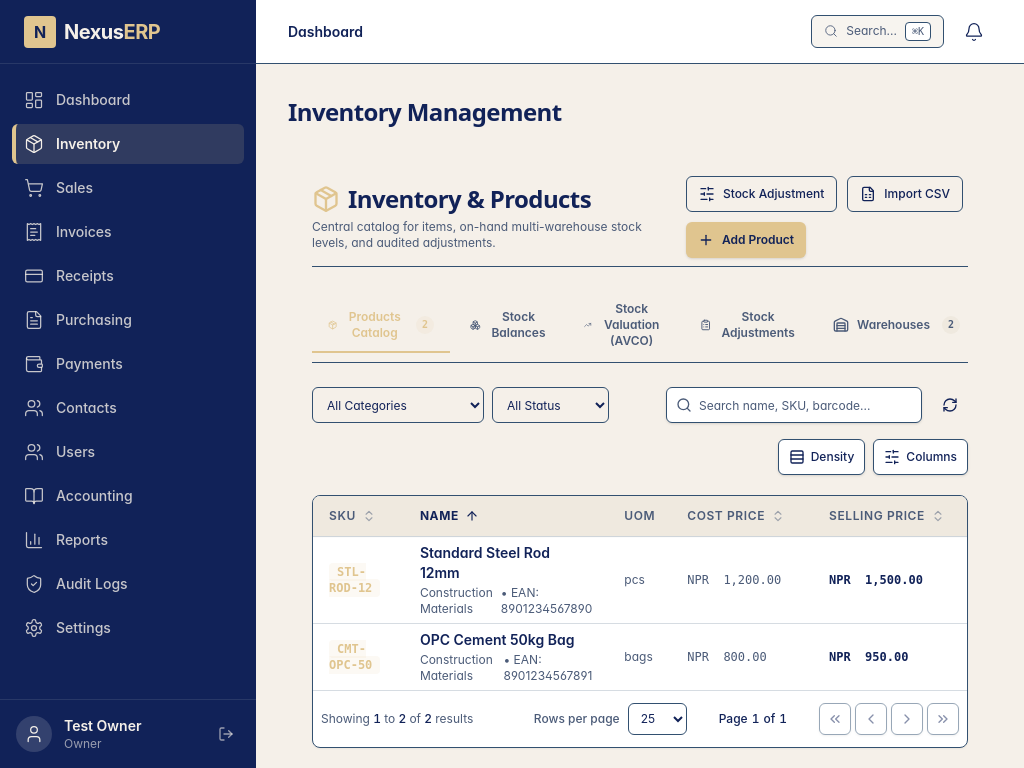
InventoryIndex Component › opens Add Product modal and submits successfully
Later steps or results of the test are not shown.
Expected: the text "Standard Steel Rod 12mm" is shown, [420,544,550,580]
Click the button "Add Product". click: (746, 240)
box: [686,222,806,258]
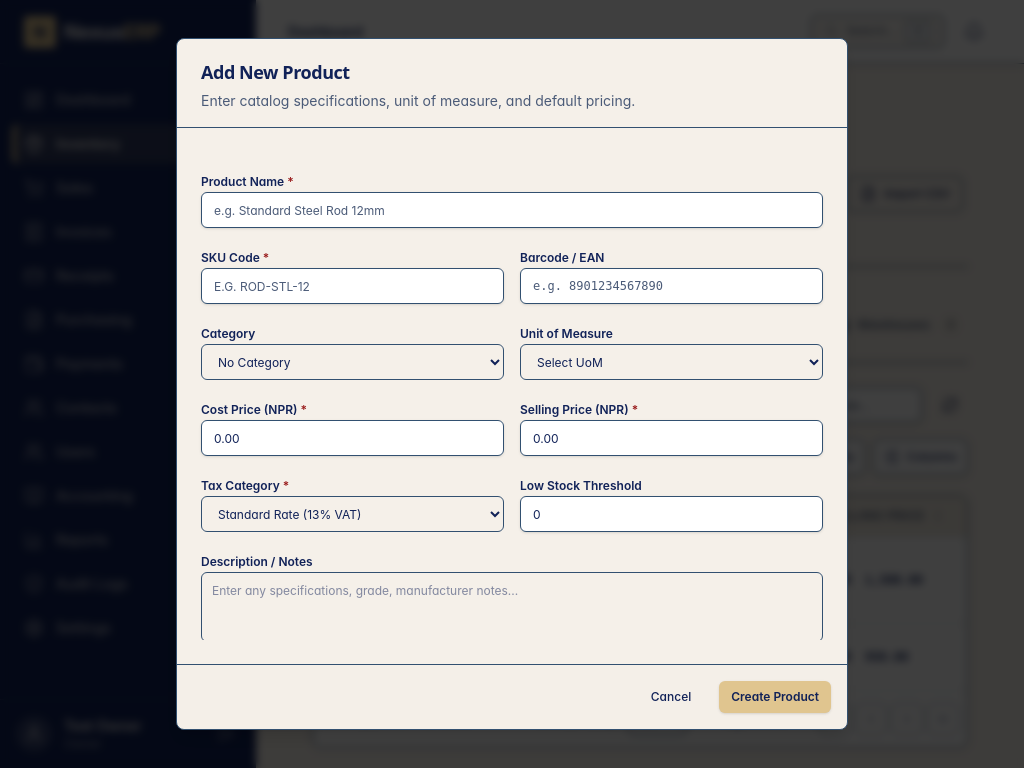
Result: the heading "Add New Product" is shown at [201,60,350,84]
